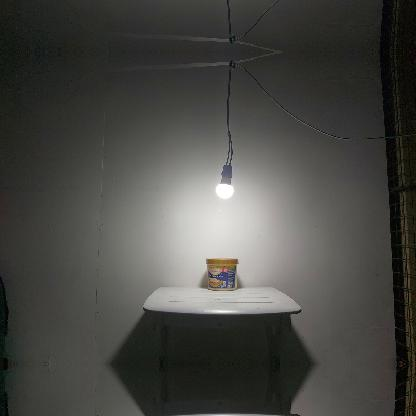Lady-s-Choice: (206, 258, 238, 290)
